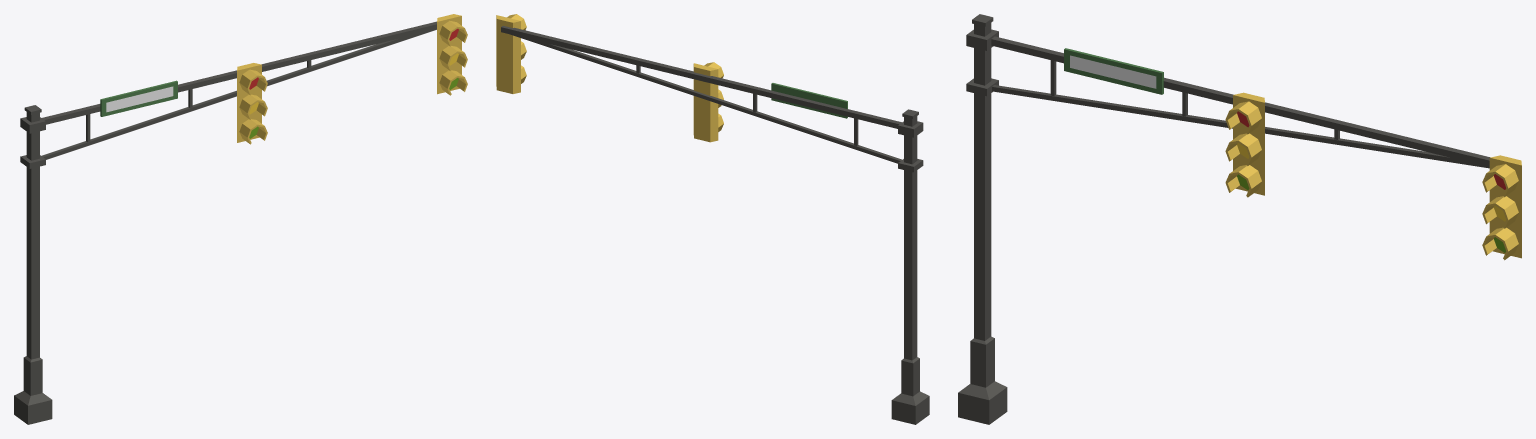
File: Traffic_Light_2.fbx
3 views of the same model, side by side, from view 1: azimuth 30°, elevation 25°; view 2: azimuth 150°, elevation 25°; view 3: azimuth 330°, elevation 25° (orthographic). The views are drawn at different scales.
Visible parts, largest first — view 1: Traffic_Light_2; view 2: Traffic_Light_2; view 3: Traffic_Light_2.
Boxes of the visible parts, x1,y1,x2,y2 form: Traffic_Light_2: (14,14,467,424); Traffic_Light_2: (496,14,929,424); Traffic_Light_2: (958,14,1521,424).
Bounding box in the file's own units: 11.99 × 8.1 × 0.934.
Materials: 1 (1 with a texture image).
